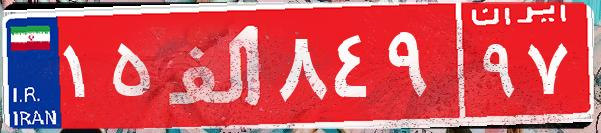1: (57, 26, 110, 107)
4: (330, 28, 385, 110)
5: (110, 28, 158, 105)
7: (525, 38, 570, 115)
8: (273, 28, 330, 110)
9: (385, 28, 445, 110), (475, 38, 525, 113)
الف: (158, 15, 273, 115)
